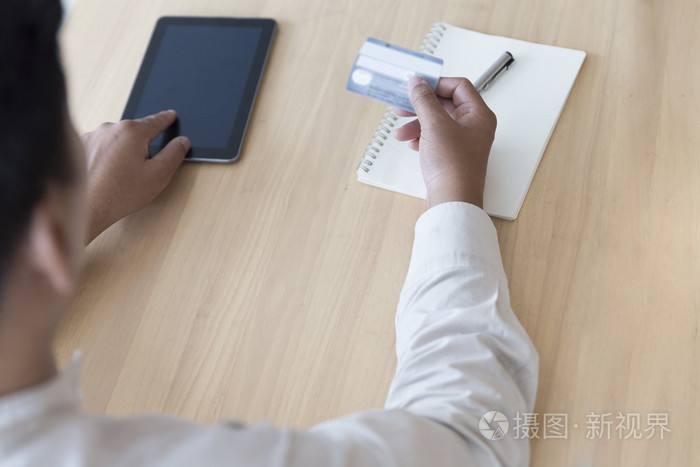pad: (87, 6, 281, 186)
